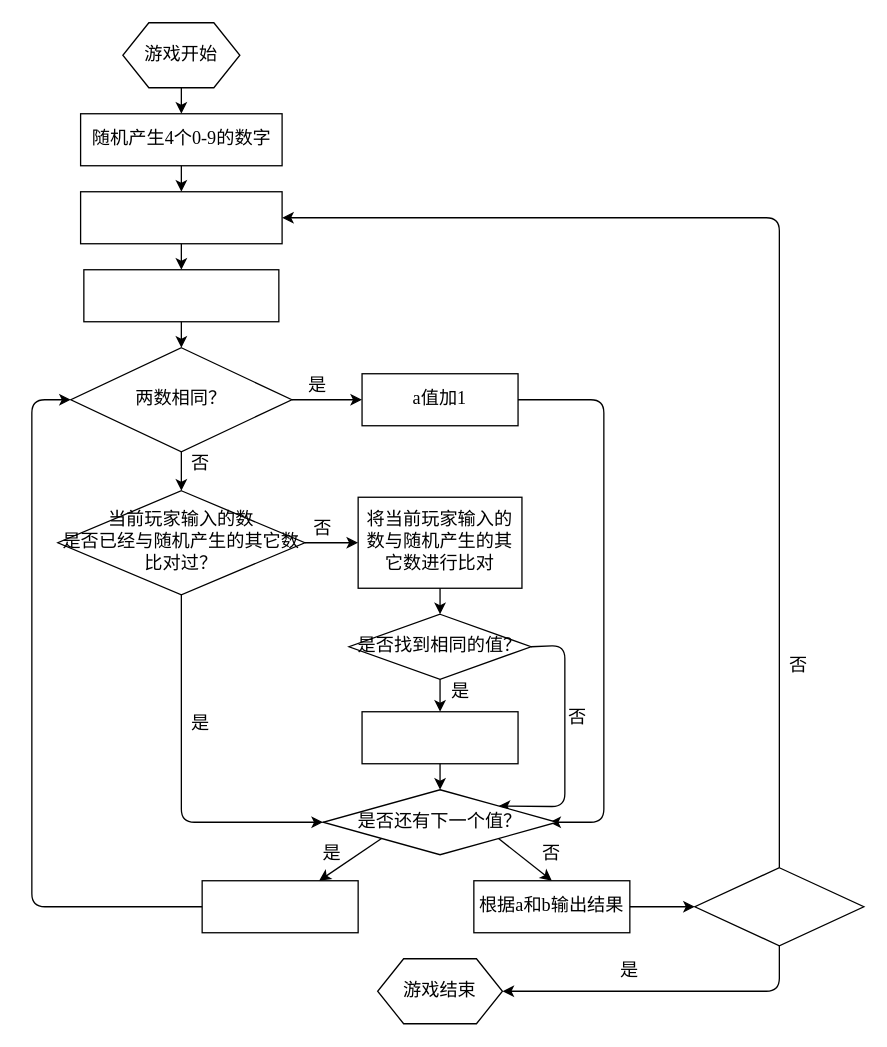
The diagram is 887 pixels wide and 1047 high, and some of its shapes have lost their labels. Each missing label, with the centre of its shape:
b值加1: [439,737]
从第一个数字开始比对: [181,295]
是否猜中 (a=4, b=0)？: [779,906]
比对下一个值: [279,906]
玩家输入4个0-9的数字: [180,217]
